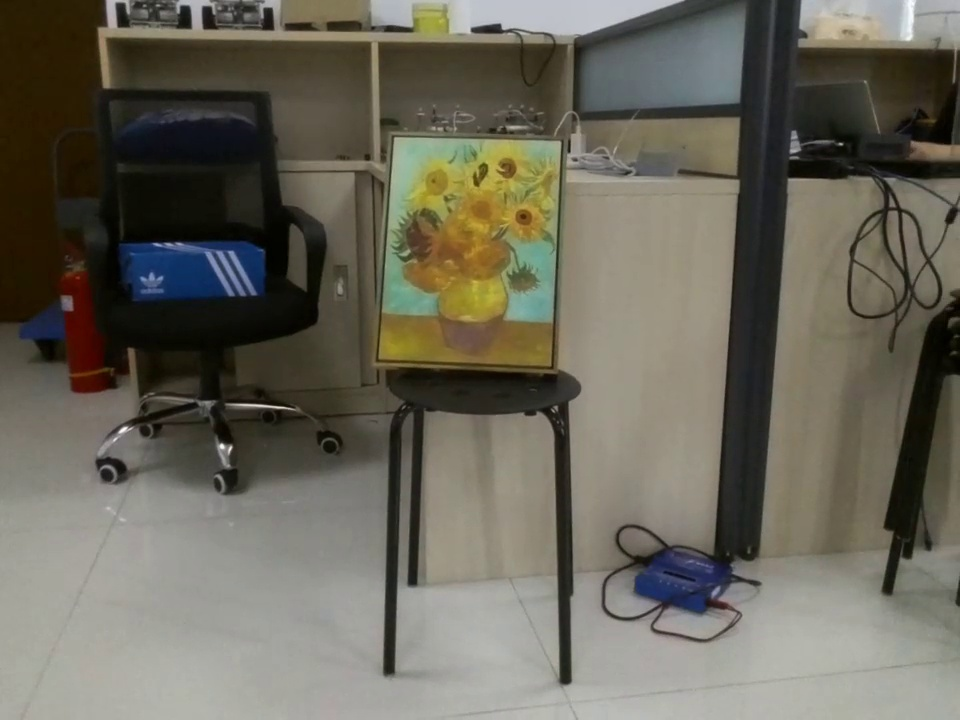painting: (375, 134, 570, 375)
